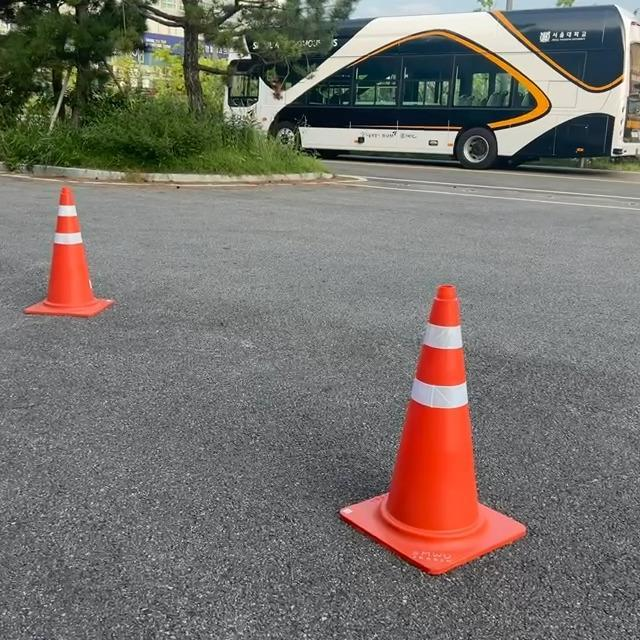fallen_object: (216, 266, 522, 640), (0, 159, 120, 356)
